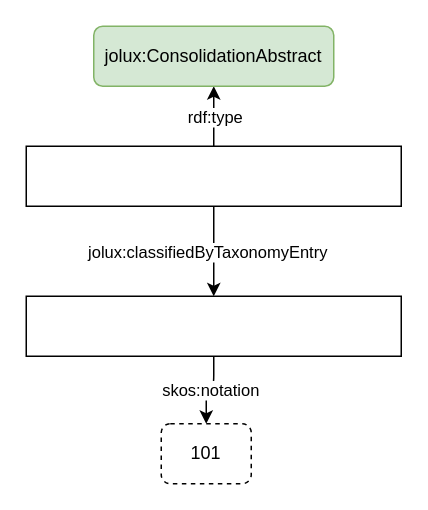
Some shapes in this 428 by 510 pixel diagram are drawn without their labels. The centre of each missing label's shape, as x and y in pixels:
fedlex:cc/1999/404: the point at 213,175
https://fedlex.data.admin.ch/vocabulary/legal-taxonomy/4715: the point at 213,325
